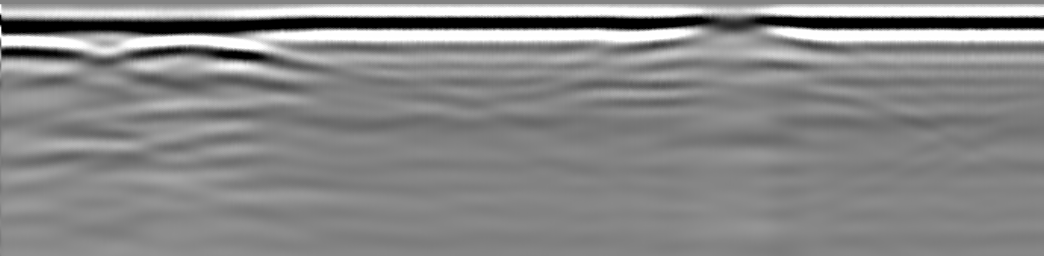pipe: (663, 14, 806, 49)
steel: (110, 34, 294, 72), (2, 35, 106, 69)
